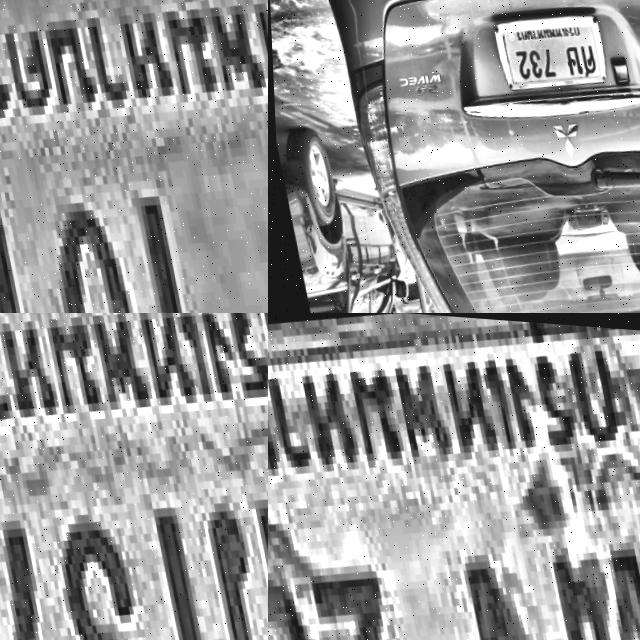license-plate: (268, 313, 640, 640), (0, 313, 268, 640), (0, 0, 268, 313), (482, 0, 612, 96)
